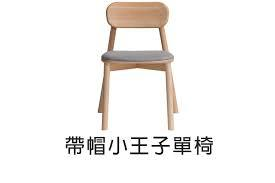chair: (88, 3, 194, 129)
